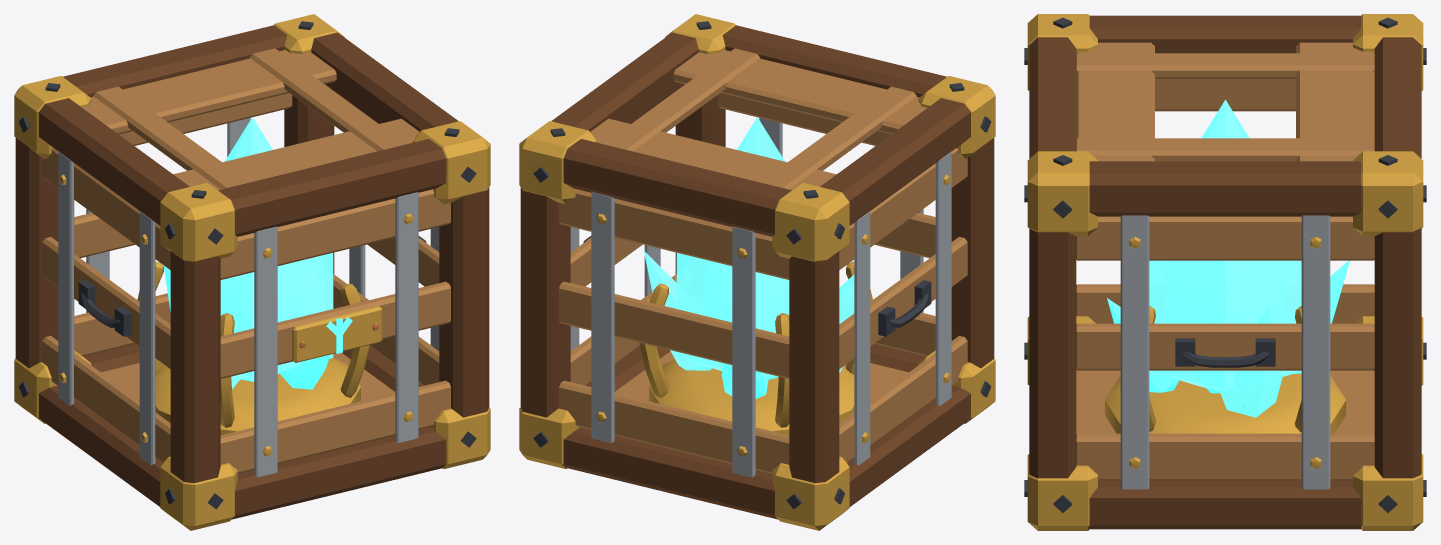
Rendered from item_ley_cargo.glb.
The picture shows the model from 3 angles, left to right: view 1: azimuth 30°, elevation 25°; view 2: azimuth 150°, elevation 25°; view 3: azimuth 270°, elevation 25°; orthographic projection. The views are drawn at different scales.
Parts seen in each view (by area): view 1: Cargo; view 2: Cargo; view 3: Cargo.
Boxes of the visible parts, x1,y1,x2,y2 form: Cargo: (14, 14, 490, 530); Cargo: (519, 14, 995, 530); Cargo: (1024, 14, 1426, 530).
Size of the model in its own units: 1.2 by 1.2 by 1.2.
